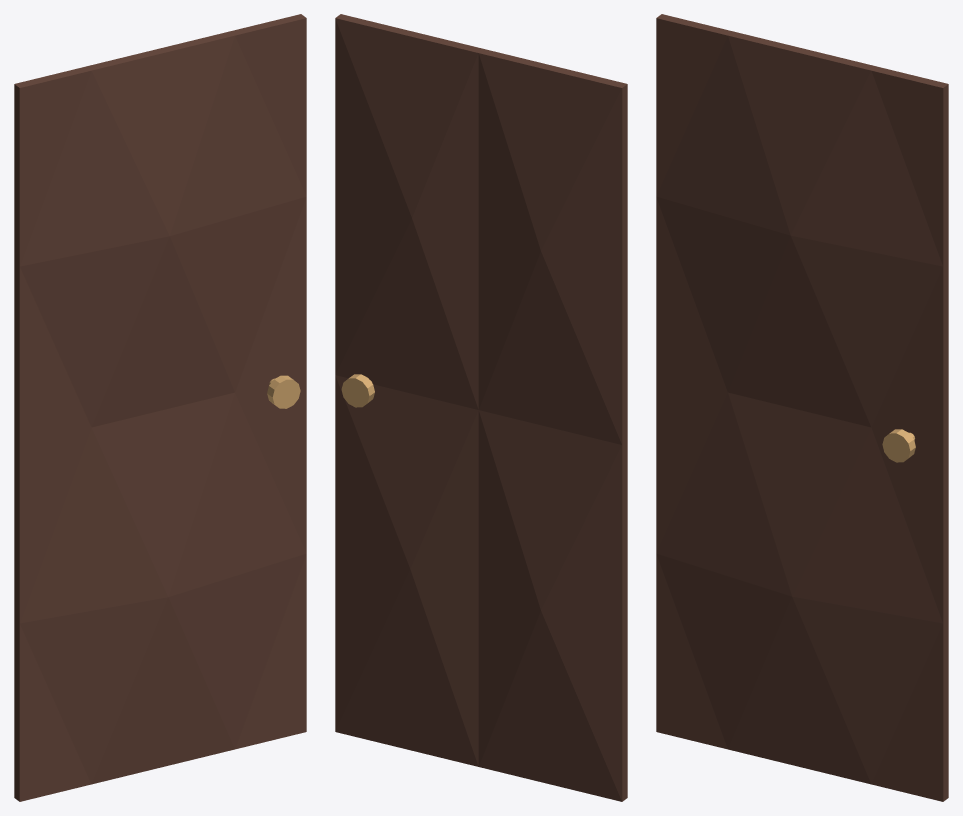
3 views of the same model, side by side, from view 1: azimuth 30°, elevation 25°; view 2: azimuth 150°, elevation 25°; view 3: azimuth 330°, elevation 25° (orthographic).
Visible parts, largest first — view 1: node_MeshObject2073818432-PolyPaper20; view 2: node_MeshObject2073818432-PolyPaper20; view 3: node_MeshObject2073818432-PolyPaper20.
Part boxes in pixels (x1,y1,x2,y2): node_MeshObject2073818432-PolyPaper20: [14, 14, 306, 801]; node_MeshObject2073818432-PolyPaper20: [335, 14, 627, 801]; node_MeshObject2073818432-PolyPaper20: [656, 14, 948, 801].
Size of the model in its own units: 2.36 by 5.61 by 0.44.
